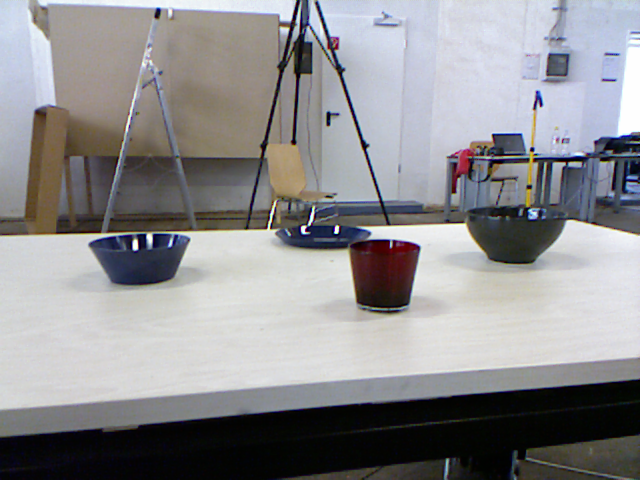bowl_bigger: (464, 206, 569, 265)
bowl_smaller: (88, 233, 191, 286)
chair: (264, 143, 339, 231)
cup: (349, 239, 421, 313)
laptop: (491, 133, 529, 156)
